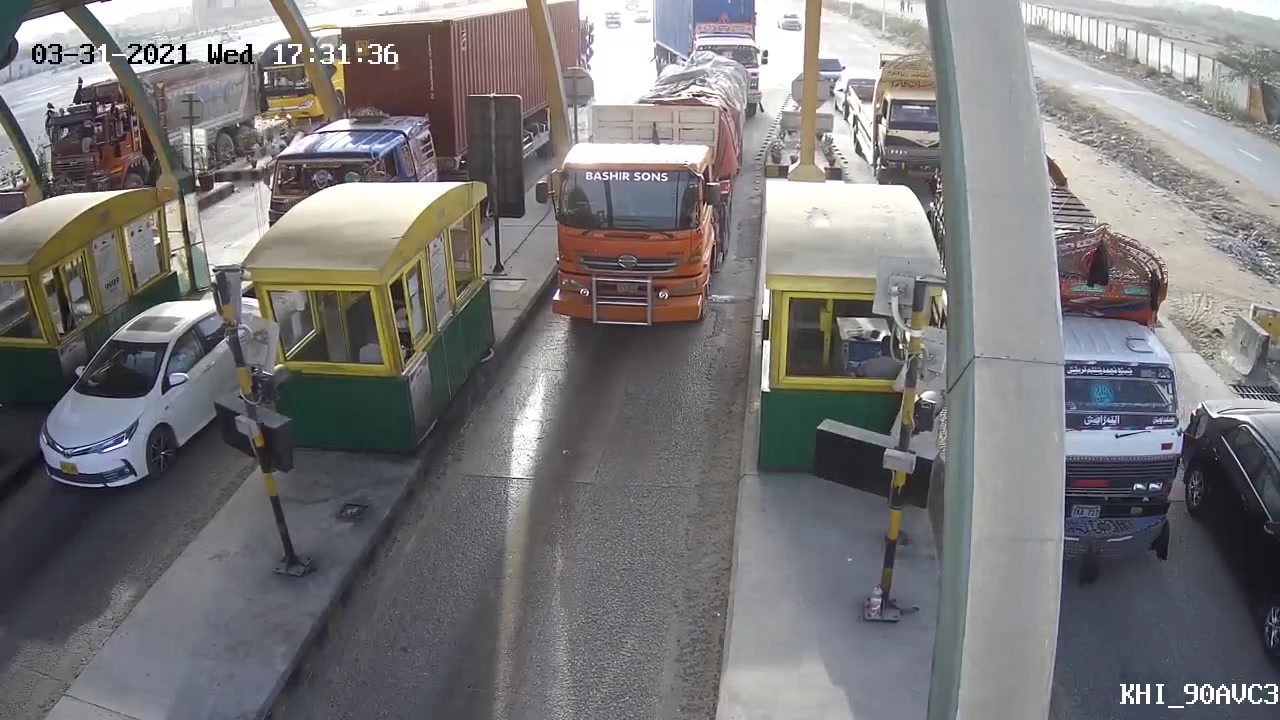F6: (550, 54, 754, 362)
